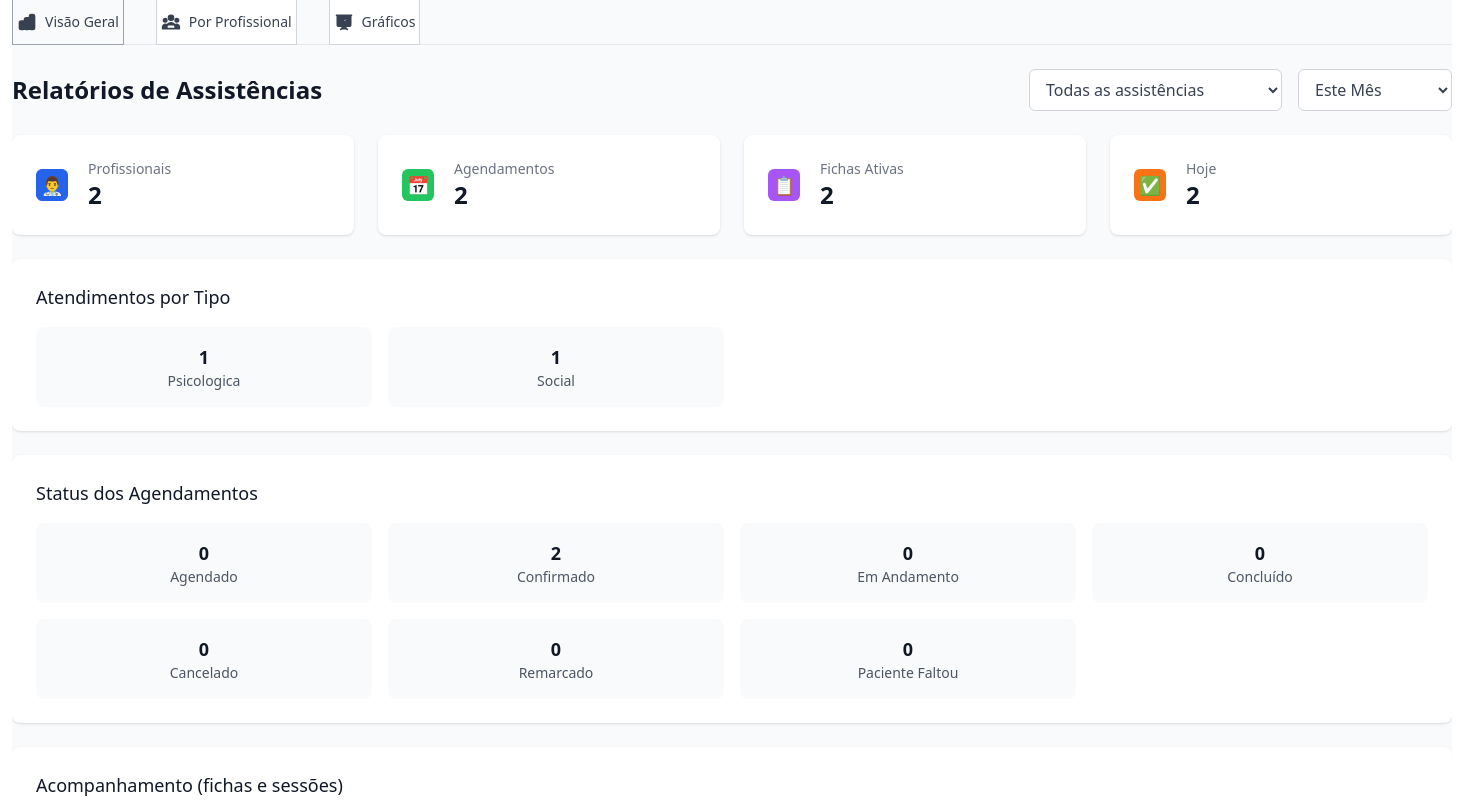
Test: AssistanceReports › mostra fichas e sessões (realizadas / paciente faltou) e filtra por tipo de assistência
expect the heading "Acompanhamento (fichas e sessões)" is shown: met, box [36,773,343,797]
Select "Assistência Social" in the dropdown named "Tipo de assistência" at (1156, 90), box [1029,69,1282,111]
(page scrolled)
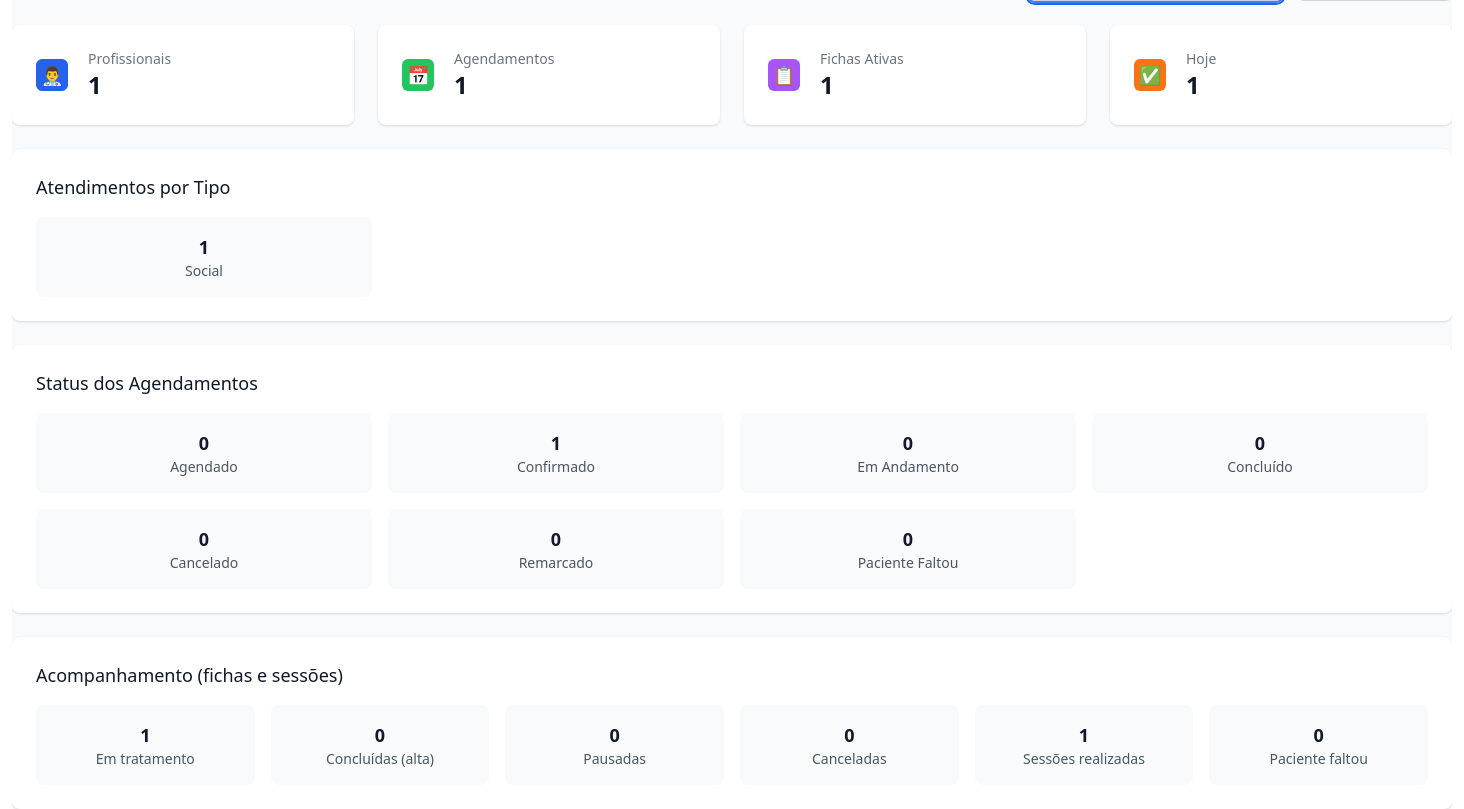
expect the 10th text "0" is shown: met, box [1314,723,1324,747]
expect the 7th text "1" is shown: met, box [140,723,150,747]
